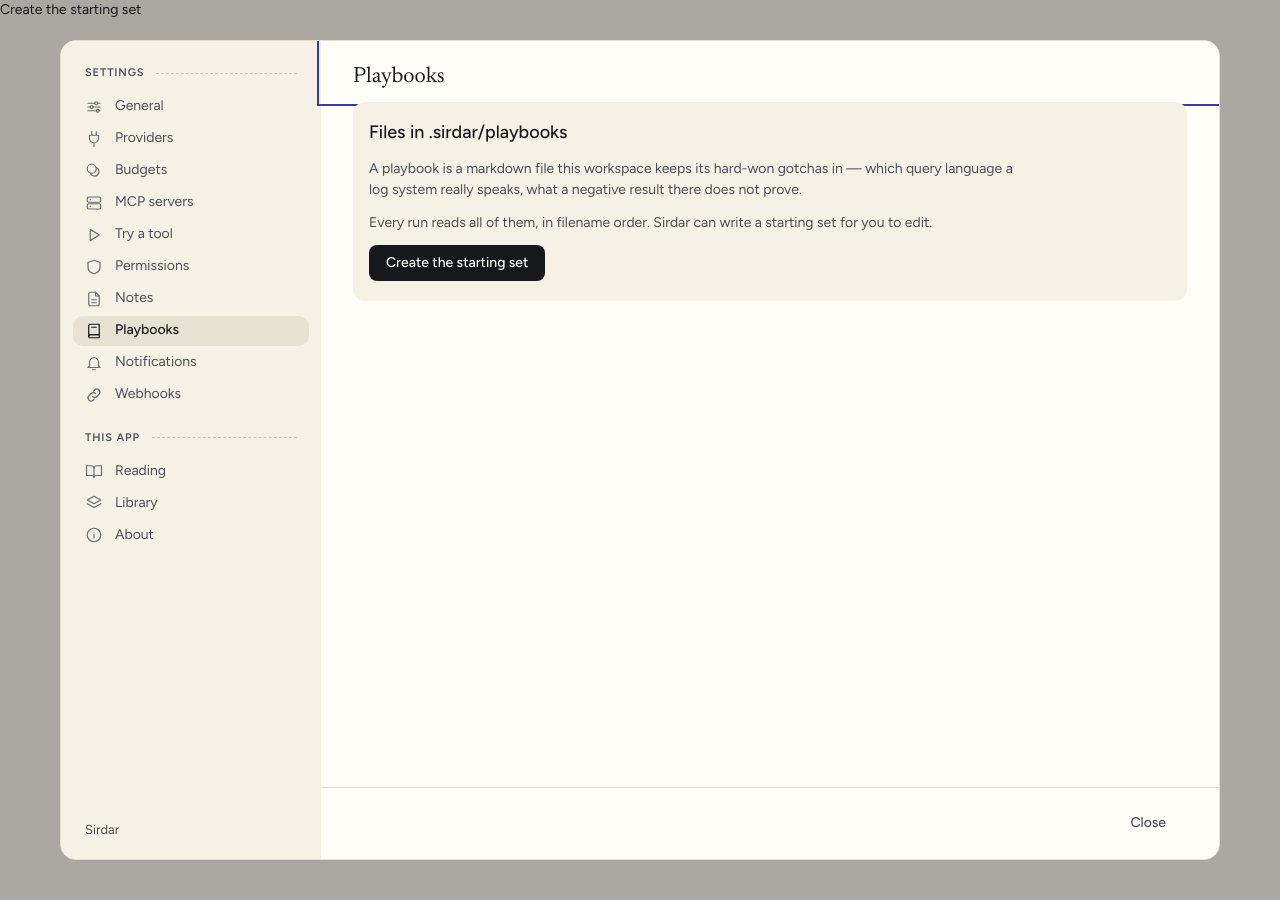
Test: the empty state › explains what a playbook is in two sentences and scaffolds the starting set
The width and height of the screenshot is (1280, 900).
Expected: the text "A playbook is a markdown file" is shown, [369, 160, 1013, 198]
Expected: the text "Every run reads all of them, in filename order" is shown, [369, 214, 932, 231]
Click the button "Create the starting set" at {"x": 457, "y": 263}, box [369, 245, 545, 281]
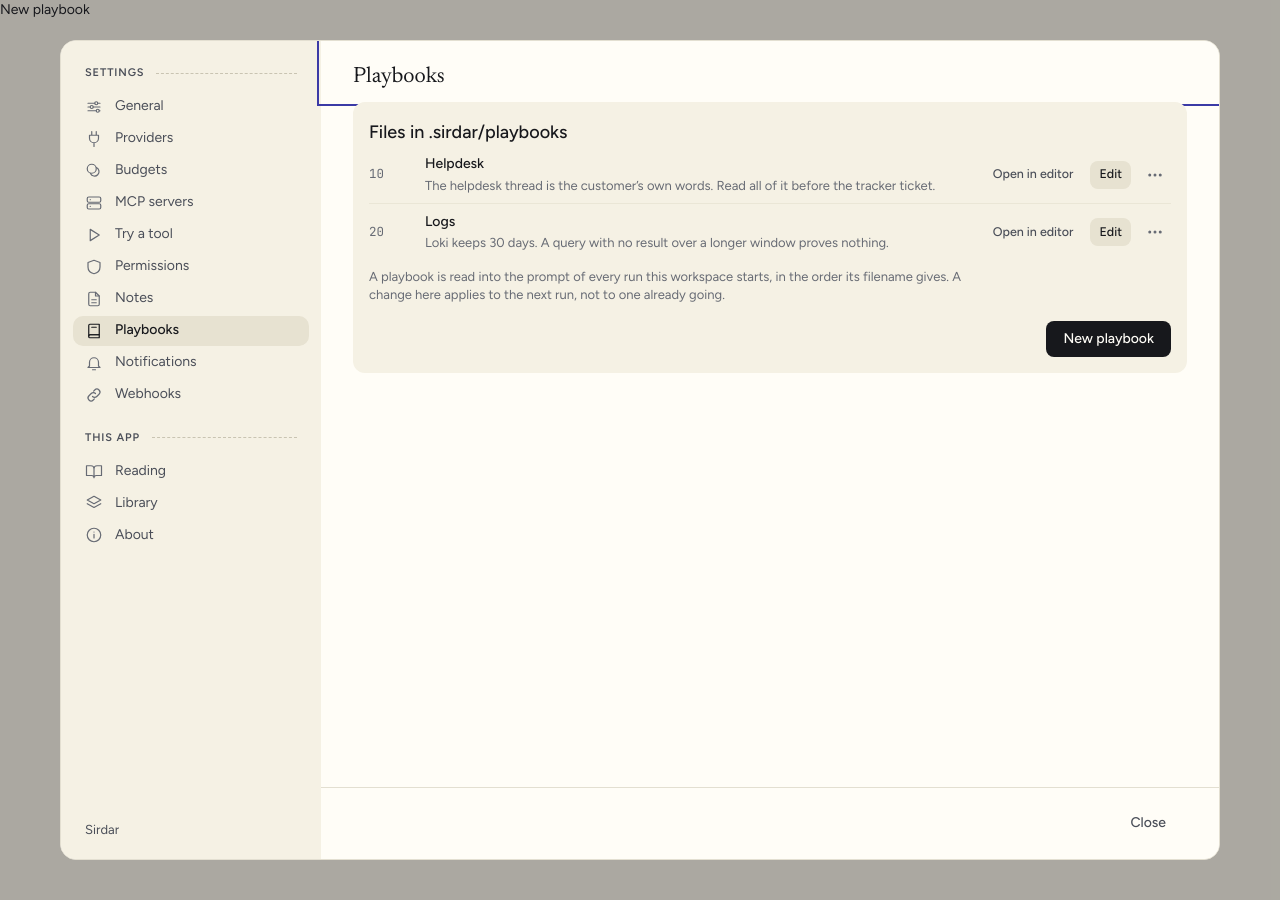
Result: the text "Helpdesk" is shown at [425, 155, 484, 172]
